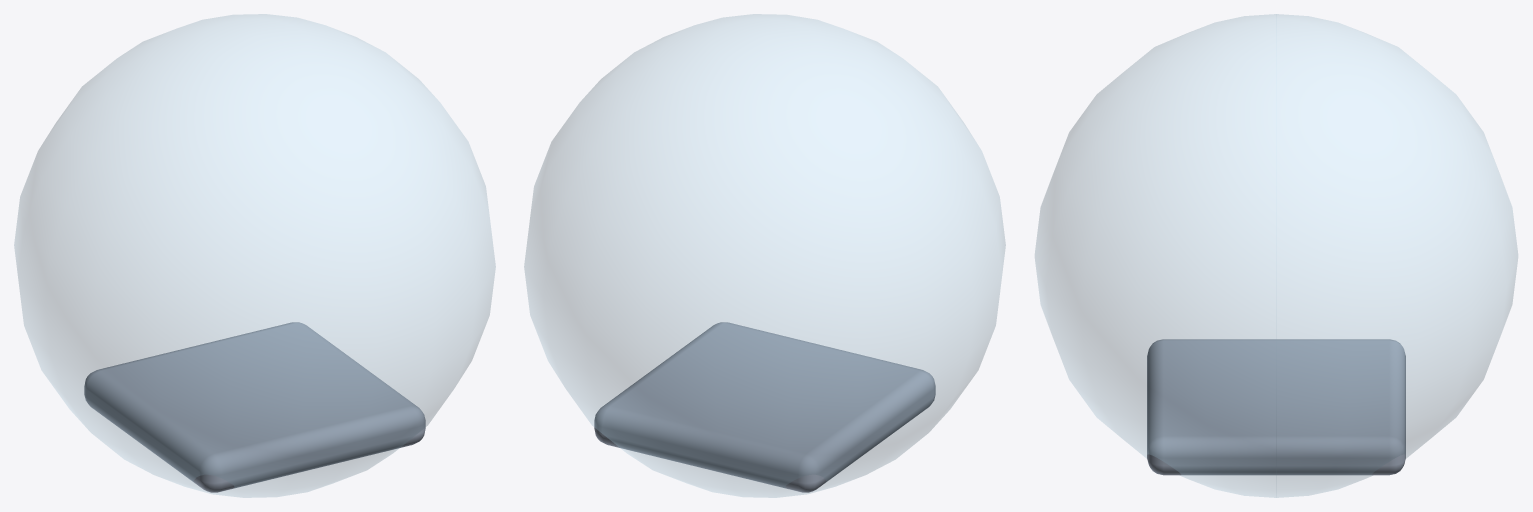
The model's file is hat_bubble.glb.
The picture shows the model from 3 angles, left to right: view 1: azimuth 30°, elevation 25°; view 2: azimuth 150°, elevation 25°; view 3: azimuth 270°, elevation 25°; orthographic projection.
Parts seen in each view (by area): view 1: Hat; view 2: Hat; view 3: Hat.
Boxes of the visible parts, box(x1,y1,x2,y2) form: Hat: box(14, 14, 495, 497); Hat: box(524, 14, 1005, 497); Hat: box(1035, 14, 1517, 497).
Size of the model in its own units: 1.16 by 1.16 by 1.16.
